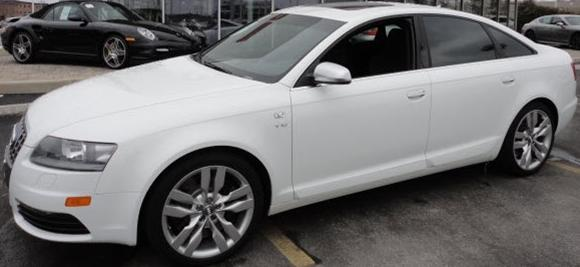front_view: (3, 100, 129, 247)
headlight: (23, 128, 118, 175)
side_glass: (293, 17, 536, 91)
